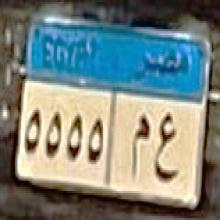5: (65, 112, 85, 166), (44, 106, 64, 158), (86, 115, 106, 166), (24, 104, 43, 156)
ain: (152, 109, 180, 186)
meem: (125, 109, 152, 179)
